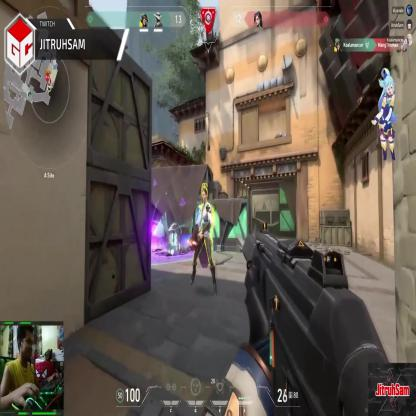enemy: (192, 183, 219, 296)
enemy_head: (200, 186, 208, 203)
